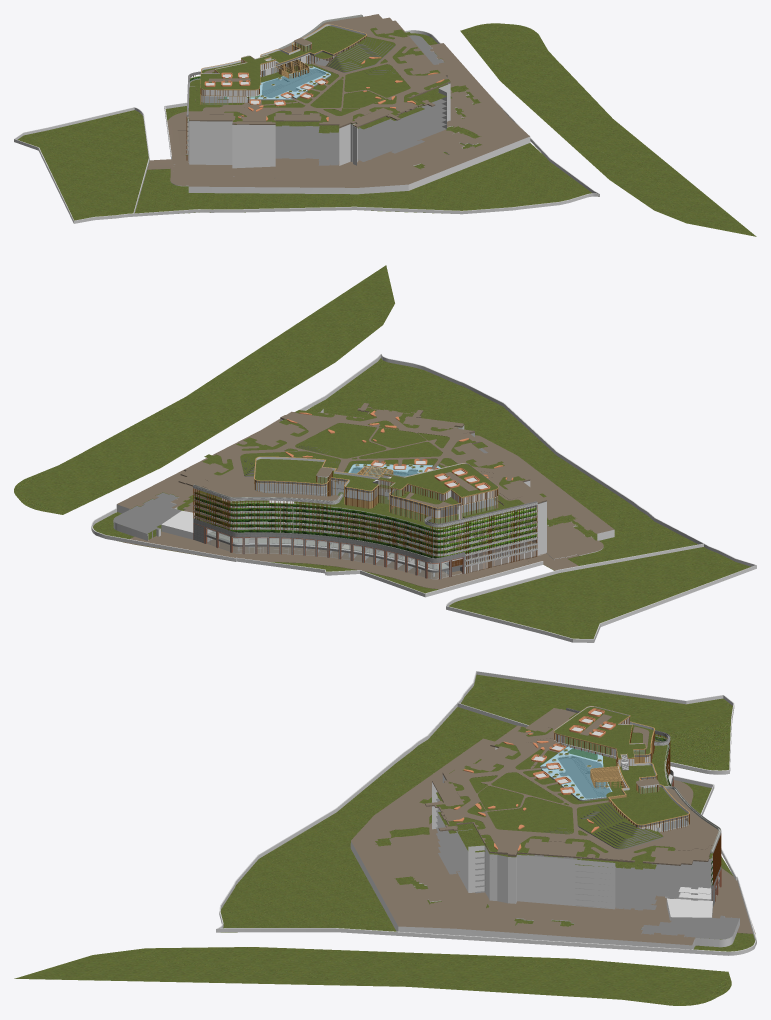
Rendered from 01_SM_Podium.glb.
3 renders of one model, top to bottom at view 1: azimuth 30°, elevation 25°; view 2: azimuth 150°, elevation 25°; view 3: azimuth 270°, elevation 25°, orthographic. The views are drawn at different scales.
Parts seen in each view (by area): view 1: SM_Podium, SM_SidePlot, SM_Tower_Ground, SM_ClubHouse, SM_Compound_Wall_01, SM_Compound_Wall_02; view 2: SM_Podium, SM_SidePlot, SM_Tower_Ground, SM_ClubHouse, SM_Compound_Wall_01, SM_Compound_Wall_02; view 3: SM_Podium, SM_SidePlot, SM_Tower_Ground, SM_ClubHouse, SM_Compound_Wall_01, SM_Compound_Wall_02.
Boxes of the visible parts, x1,y1,x2,y2 form: SM_Podium: [147, 14, 530, 194]; SM_SidePlot: [17, 23, 756, 236]; SM_Tower_Ground: [135, 33, 592, 213]; SM_ClubHouse: [200, 24, 366, 104]; SM_Compound_Wall_01: [133, 30, 599, 216]; SM_Compound_Wall_02: [14, 107, 149, 223]; SM_Podium: [113, 403, 614, 589]; SM_SidePlot: [14, 265, 750, 638]; SM_Tower_Ground: [93, 358, 698, 593]; SM_ClubHouse: [254, 456, 498, 523]; SM_Compound_Wall_01: [91, 354, 704, 597]; SM_Compound_Wall_02: [446, 543, 756, 642]; SM_Podium: [350, 708, 755, 949]; SM_SidePlot: [14, 674, 732, 1005]; SM_Tower_Ground: [220, 707, 754, 951]; SM_ClubHouse: [553, 706, 689, 832]; SM_Compound_Wall_01: [216, 702, 756, 955]; SM_Compound_Wall_02: [457, 671, 734, 774].
Size of the model in its own units: 18.94 by 2.02 by 17.93.
15 materials, 3 textured.
